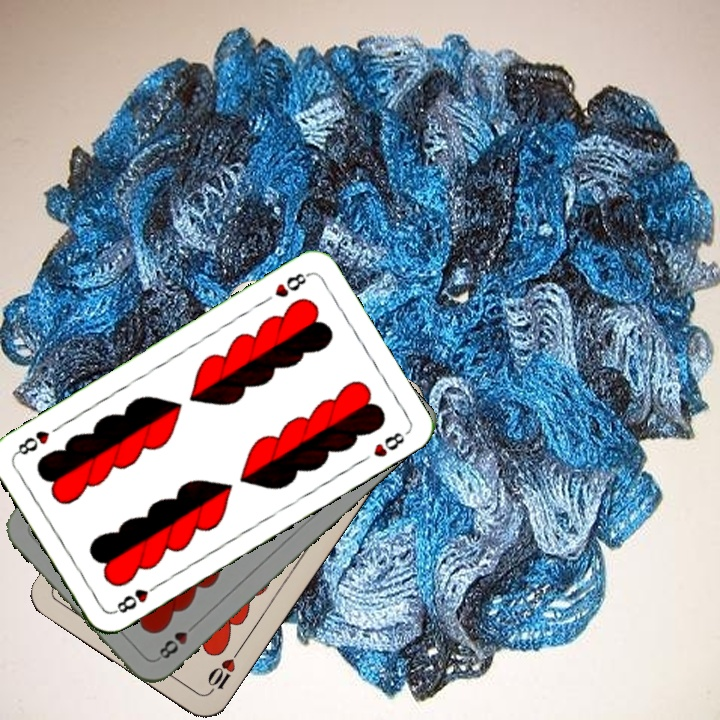H10: (203, 644, 243, 697)
H8: (153, 618, 200, 663), (109, 579, 163, 617), (270, 268, 312, 300)
